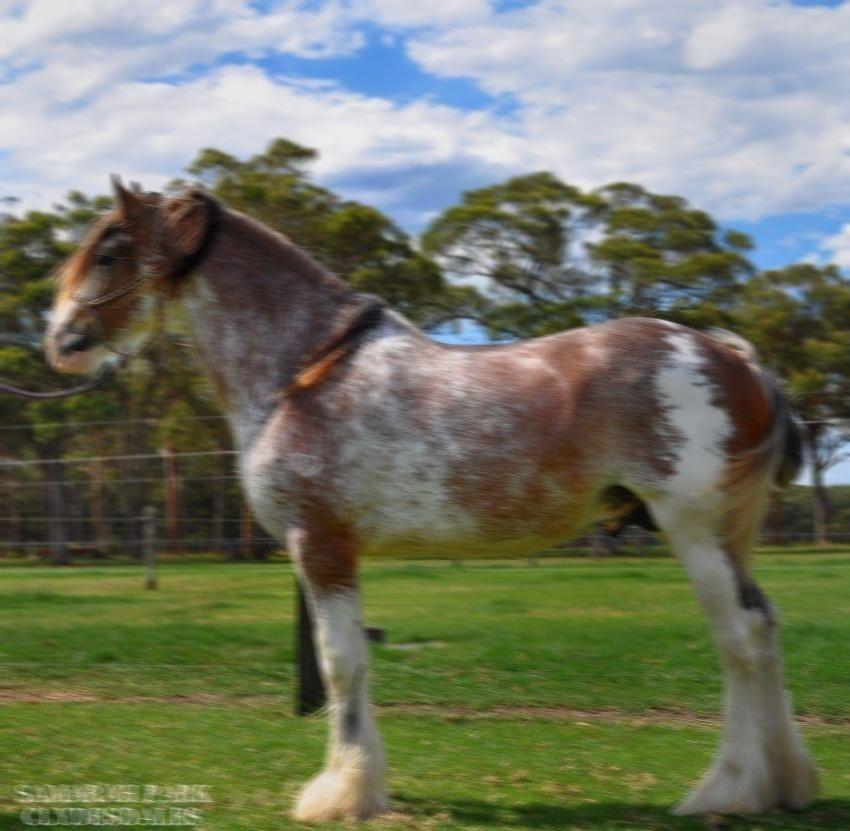horse: (43, 171, 822, 825)
